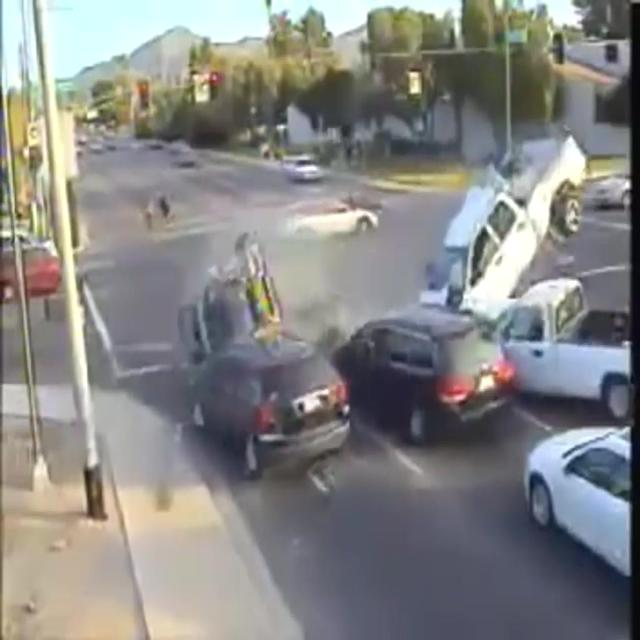accident: (329, 132, 631, 444), (175, 232, 351, 484)
